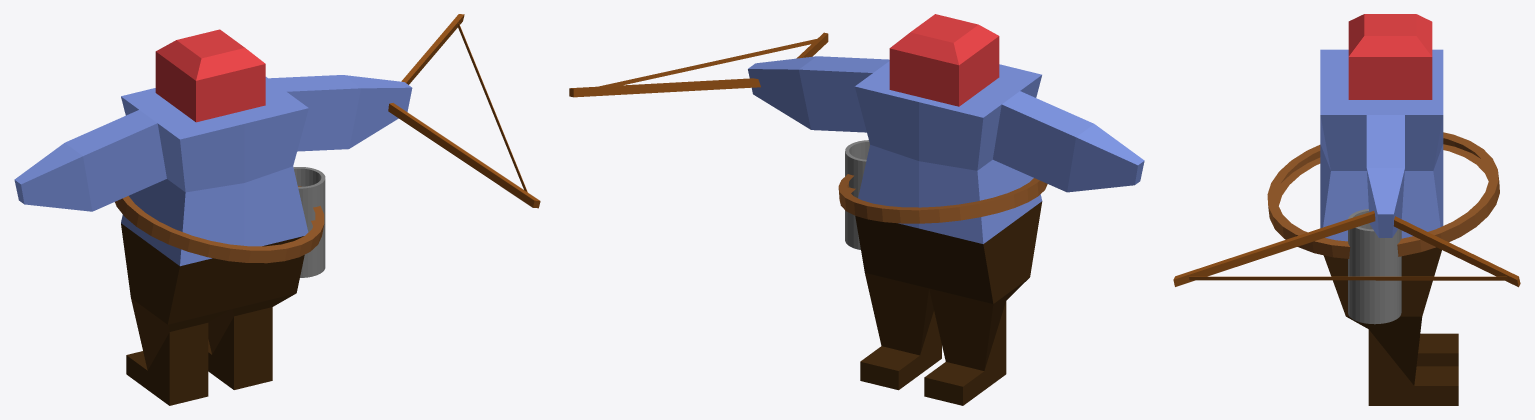
The model's file is bowman.fbx.
3 renders of one model, left to right at view 1: azimuth 30°, elevation 25°; view 2: azimuth 150°, elevation 25°; view 3: azimuth 270°, elevation 25°, orthographic. The views are drawn at different scales.
Parts seen in each view (by area): view 1: Body, trousres, Head, hoop, Bow, arrow; view 2: Body, trousres, Head, hoop, Bow, arrow; view 3: Body, trousres, Head, hoop, Bow, arrow.
Part boxes in pixels (x1,y1,x2,y2): Body: (14,75,412,266); trousres: (121,223,304,405); Head: (155,29,265,122); hoop: (115,186,324,263); Bow: (388,14,540,208); arrow: (293,167,325,277); Body: (748,56,1144,243); trousres: (855,201,1042,405); Head: (889,14,999,106); hoop: (838,174,1047,223); Bow: (569,32,828,97); arrow: (845,140,869,249); Body: (1320,49,1443,241); trousres: (1323,247,1458,405); Head: (1348,14,1432,99); hoop: (1267,132,1499,258); Bow: (1173,211,1520,287); arrow: (1348,209,1401,324).
Size of the model in its own units: 336 by 215 by 191.
